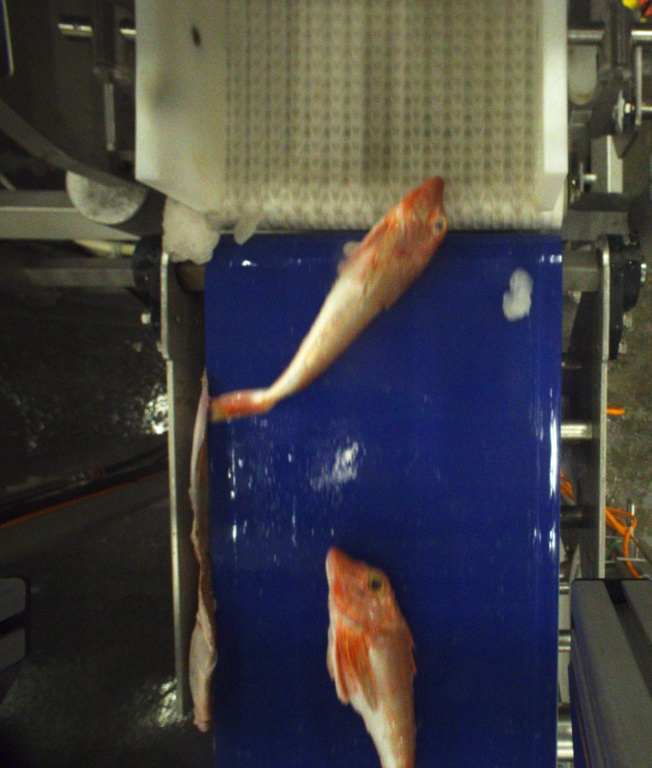GUU: (210, 173, 450, 422)
